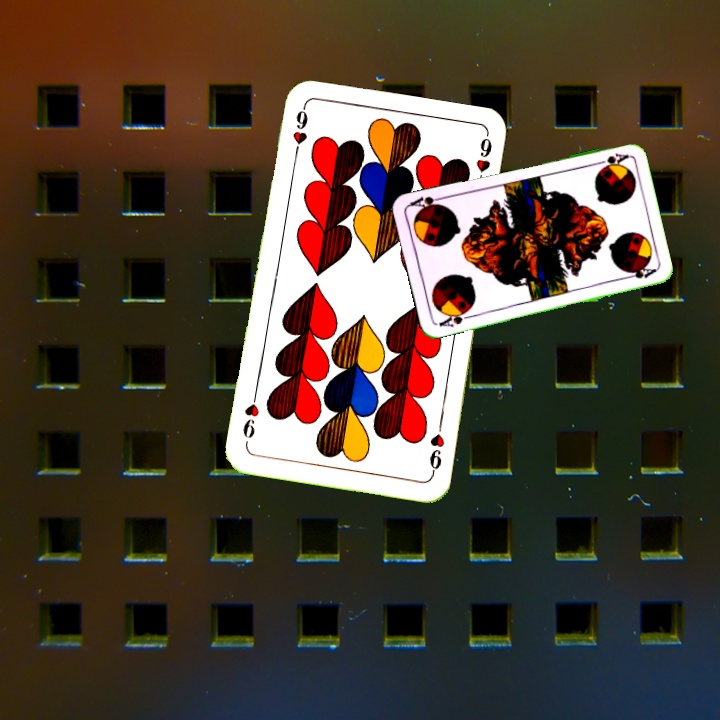H9: (425, 419, 447, 478), (288, 103, 310, 162)
SA: (435, 306, 474, 330), (590, 149, 631, 171)
